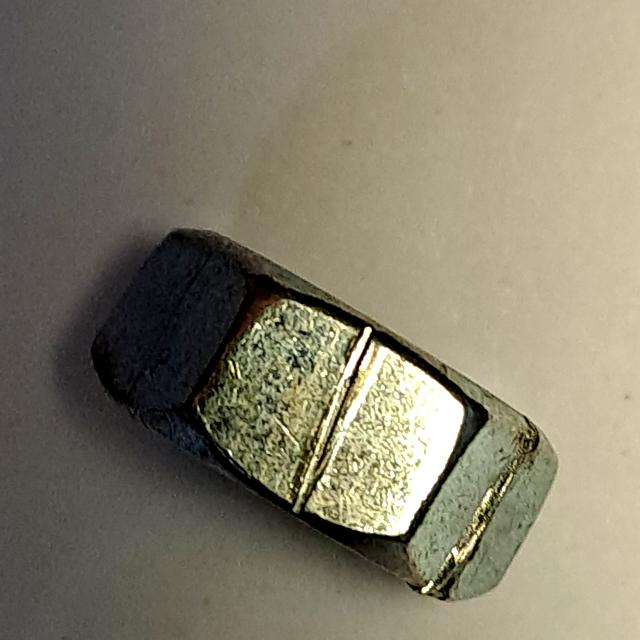Side_Scratches: (83, 220, 565, 615)
